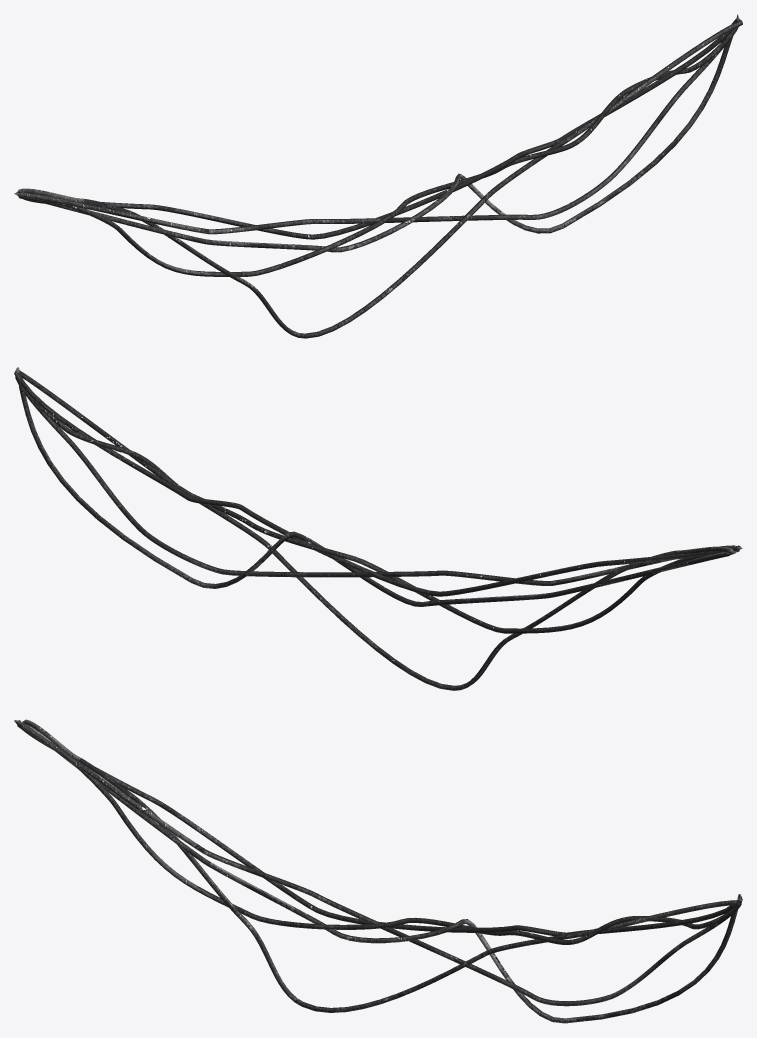
File: Cable1.fbx
The picture shows the model from 3 angles, top to bottom: view 1: azimuth 30°, elevation 25°; view 2: azimuth 150°, elevation 25°; view 3: azimuth 330°, elevation 25°; orthographic projection.
Parts seen in each view (by area): view 1: Wire; view 2: Wire; view 3: Wire.
Boxes of the visible parts, x1=… form: Wire: x1=14, y1=14, x2=742, y2=338; Wire: x1=14, y1=367, x2=742, y2=690; Wire: x1=14, y1=719, x2=742, y2=1023.
Size of the model in its own units: 8968 by 2574 by 258.
Materials: 1 (1 with a texture image).
